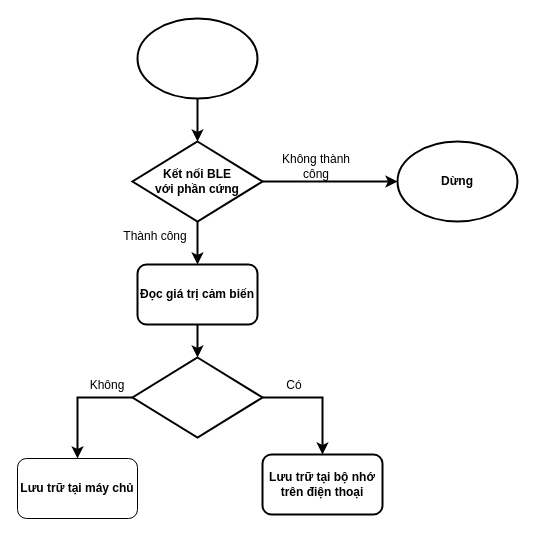
This 536x536 diagram has some shape labels left out. Each missing label, with the centre of its shape:
"Bắt đầu" goes at (x=197, y=58).
"Kết nối internet" goes at (x=197, y=397).
